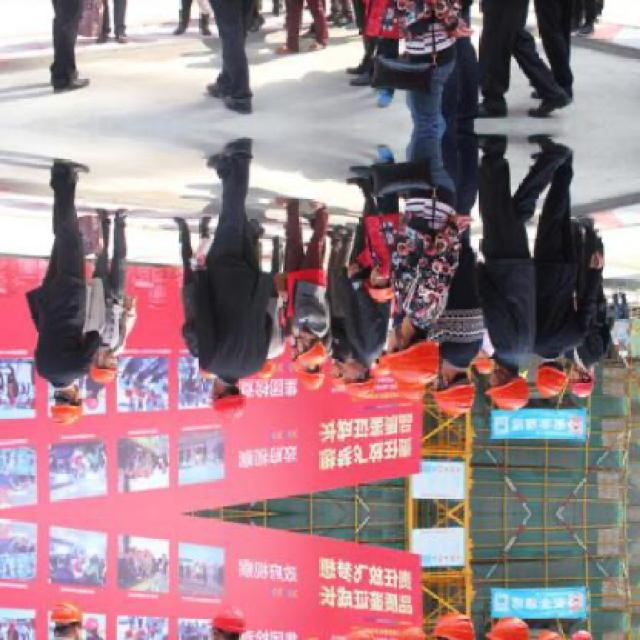con casco: (475, 358, 572, 439), (15, 366, 99, 445), (186, 366, 266, 432), (332, 366, 402, 409), (397, 346, 453, 393), (544, 366, 586, 420), (298, 343, 337, 374)
